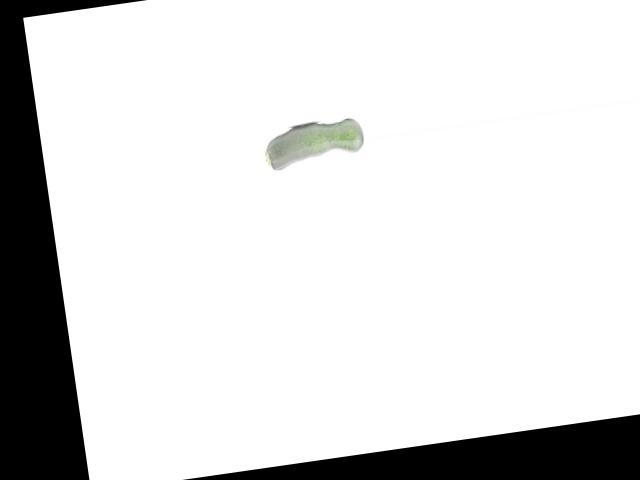cucumber: (260, 116, 366, 171)
